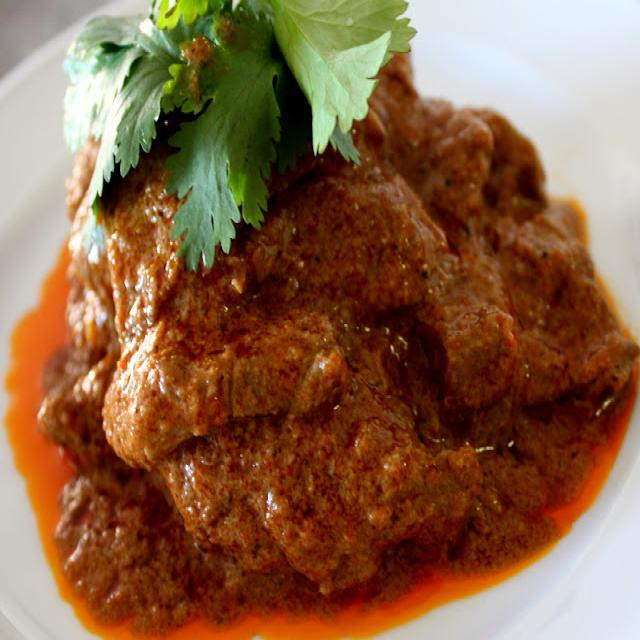Wet Waste: (40, 63, 640, 631)
